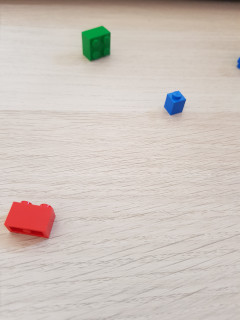1x1 blue: (164, 91, 186, 116)
1x2 red: (3, 202, 60, 241)
2x2 green: (82, 25, 111, 61)
